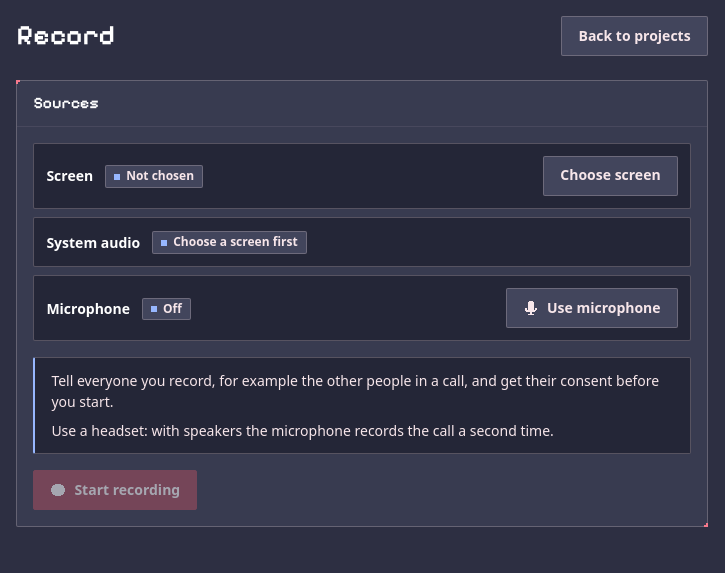
Test case: RecorderComponent › reports any other screen request error as a failure
Click the button "Choose screen" at [610, 176], box 543,156 -> 678,196
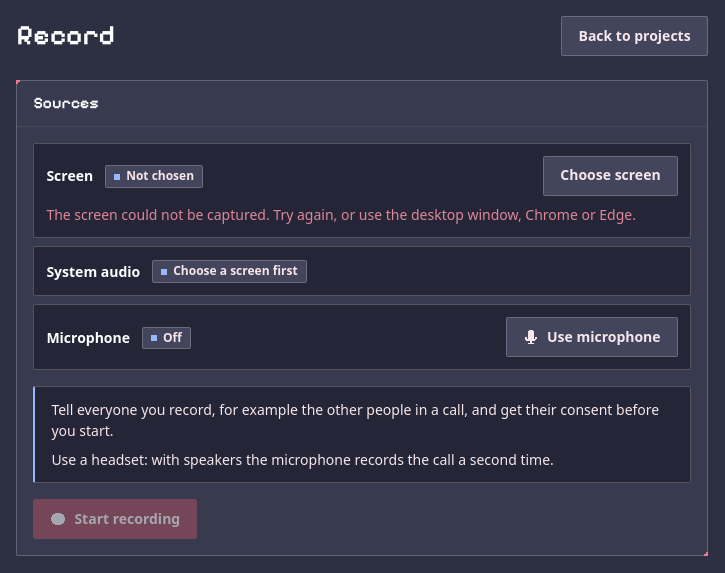
Check: the message with class "source-check__detail" shows "could not be captured", box 46,205 -> 636,224
